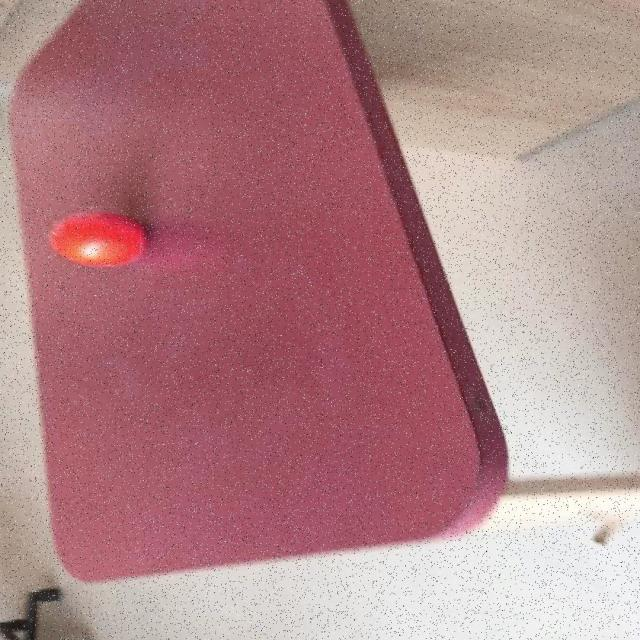Orange: (6, 0, 512, 582), (49, 210, 148, 268)
